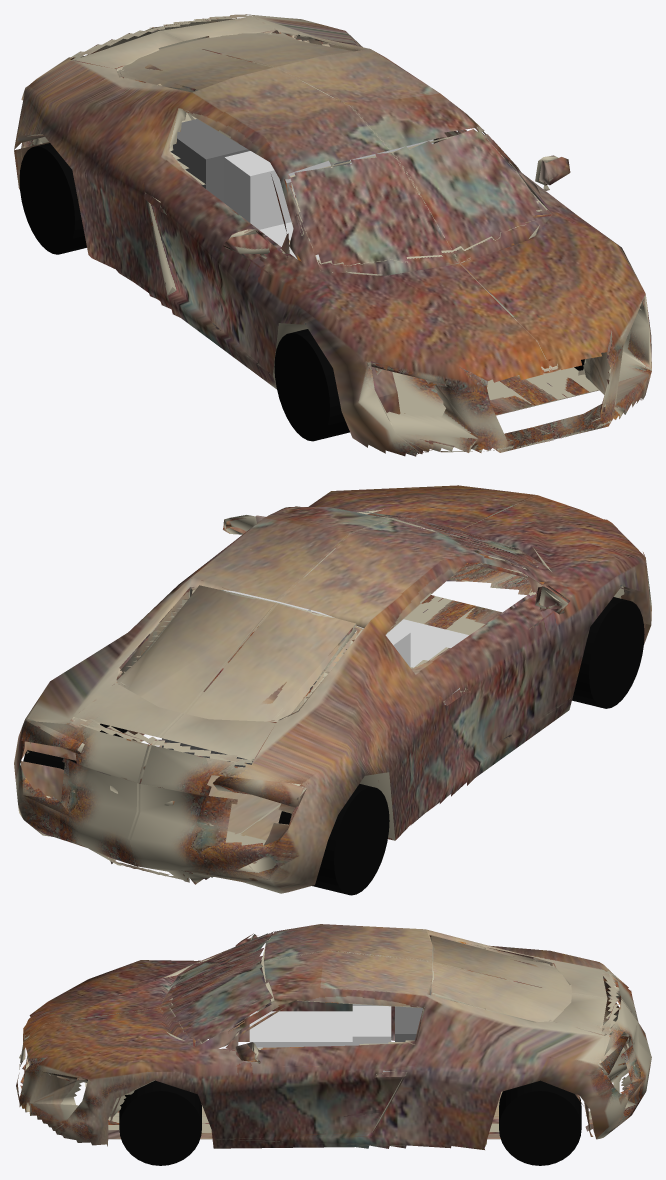
File: audir8.glb
The picture shows the model from 3 angles, top to bottom: view 1: azimuth 30°, elevation 25°; view 2: azimuth 150°, elevation 25°; view 3: azimuth 270°, elevation 25°; orthographic projection. The views are drawn at different scales.
Parts seen in each view (by area): view 1: azb.001, panoram, Cylinder.003, Cylinder.004, mini, ´ancha, Cube.004, Cube.001; view 2: azb.001, Cylinder.004, Cylinder.003, ´ancha, mini, panoram, Cube.005, Cylinder.002; view 3: azb.001, panoram, Cylinder.002, Cylinder.001, Cube.005, mini, Cube.002, Cube.001, ´ancha.
Boxes of the visible parts, x1,y1,x2,y2 form: azb.001: (14, 14, 651, 456); panoram: (290, 129, 550, 262); Cylinder.003: (274, 329, 349, 441); Cylinder.004: (19, 143, 86, 254); mini: (20, 18, 645, 440); ´ancha: (153, 197, 599, 417); Cube.004: (224, 151, 332, 229); Cube.001: (170, 119, 250, 202); azb.001: (14, 485, 651, 893); Cylinder.004: (278, 784, 389, 895); Cylinder.003: (572, 597, 644, 708); ´ancha: (159, 595, 501, 845); mini: (20, 518, 645, 869); panoram: (295, 506, 535, 568); Cube.005: (393, 619, 468, 704); Cylinder.002: (23, 723, 127, 769); azb.001: (16, 924, 651, 1149); panoram: (170, 933, 272, 1039); Cylinder.002: (499, 1080, 581, 1165); Cylinder.001: (119, 1080, 201, 1165); Cube.005: (249, 1011, 352, 1047); mini: (20, 934, 631, 1136); Cube.002: (352, 1006, 391, 1071); Cube.001: (395, 985, 431, 1041); ´ancha: (108, 1071, 502, 1139).
Bounding box in the file's own units: 3.85 × 2.28 × 8.29.
Materials: 3 (1 with a texture image).
